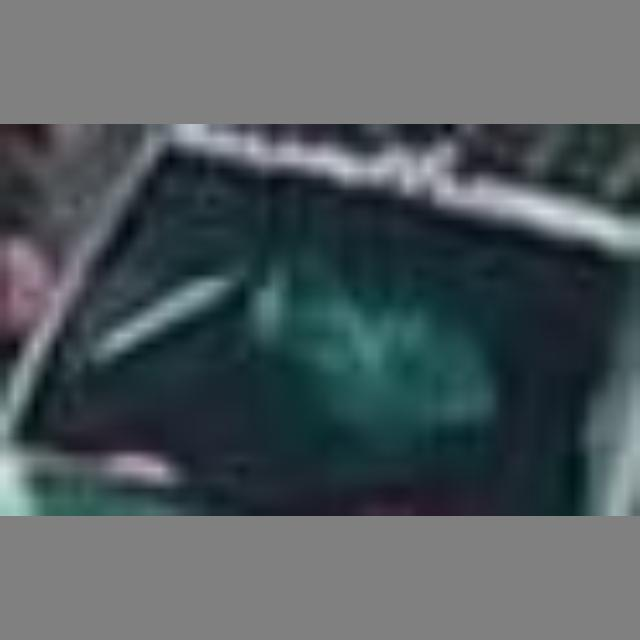tidak-pakai: (217, 238, 454, 434)
